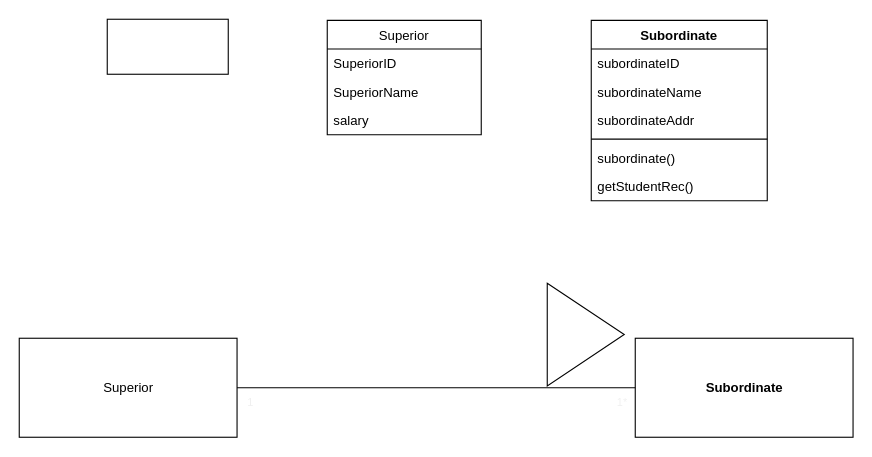
Image size: 872x457. Some labels were removed from this diagram. The shapes that lost their labels are listed below. From the top down, each one's centre as x and y in pixels, then its label:
At [167,46]: "Chiefexecutiveofficer".
At [585,334]: "assign work".
